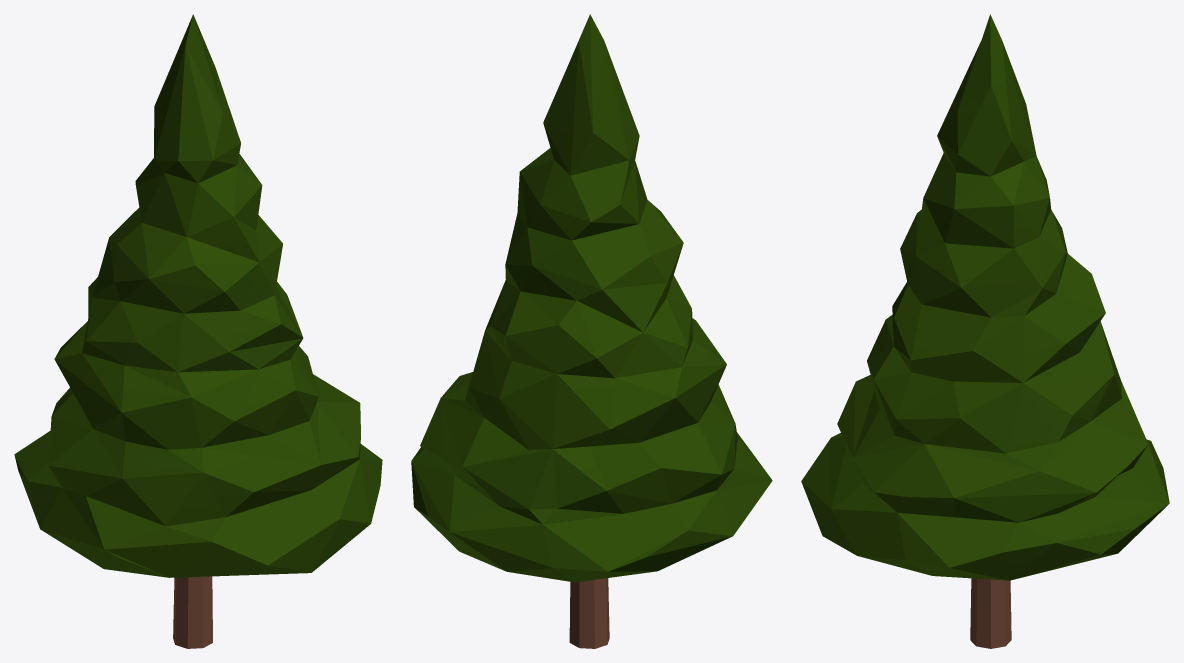
Rendered from PineA.glb.
3 views of the same model, side by side, from view 1: azimuth 30°, elevation 25°; view 2: azimuth 150°, elevation 25°; view 3: azimuth 270°, elevation 25° (orthographic).
Parts seen in each view (by area): view 1: PineA_LOD0; view 2: PineA_LOD0; view 3: PineA_LOD0.
Boxes of the visible parts, bbox=[...] form: PineA_LOD0: bbox=[14, 14, 382, 648]; PineA_LOD0: bbox=[411, 14, 772, 648]; PineA_LOD0: bbox=[801, 14, 1169, 648].
Size of what is drawn, in the model's own units: 4.43 by 8.38 by 4.47.
